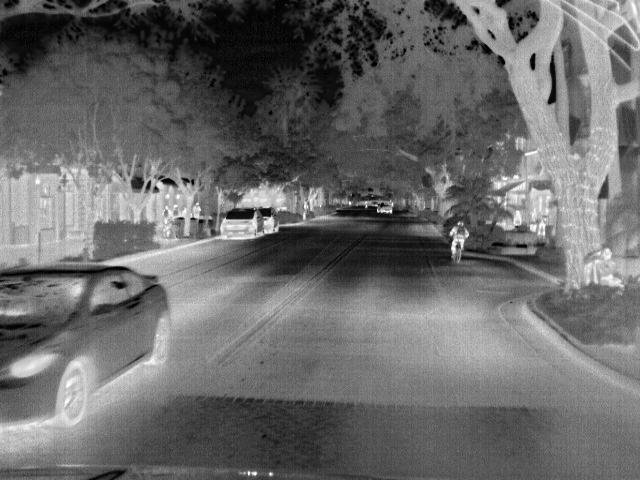car: (1, 262, 168, 429), (220, 208, 267, 239), (259, 206, 279, 234), (376, 198, 395, 216)
person: (449, 220, 468, 260), (540, 206, 554, 234), (527, 208, 540, 233), (159, 204, 172, 224), (170, 202, 183, 220), (190, 200, 202, 219), (512, 209, 524, 227)
